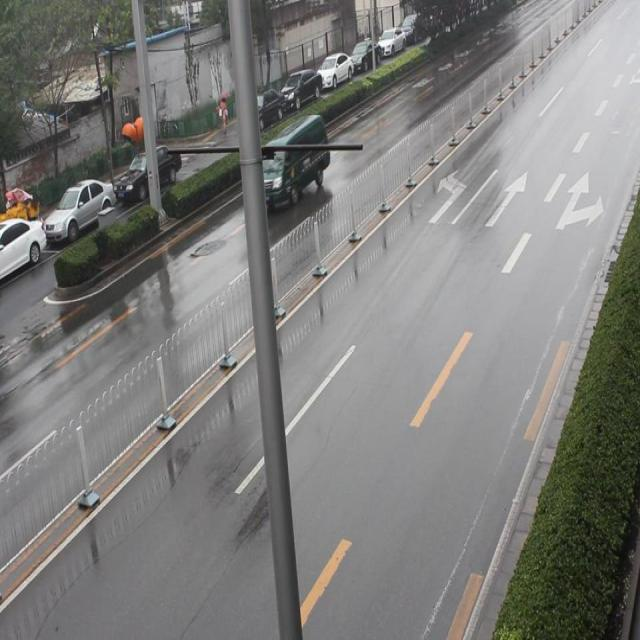truck: (254, 117, 334, 209)
